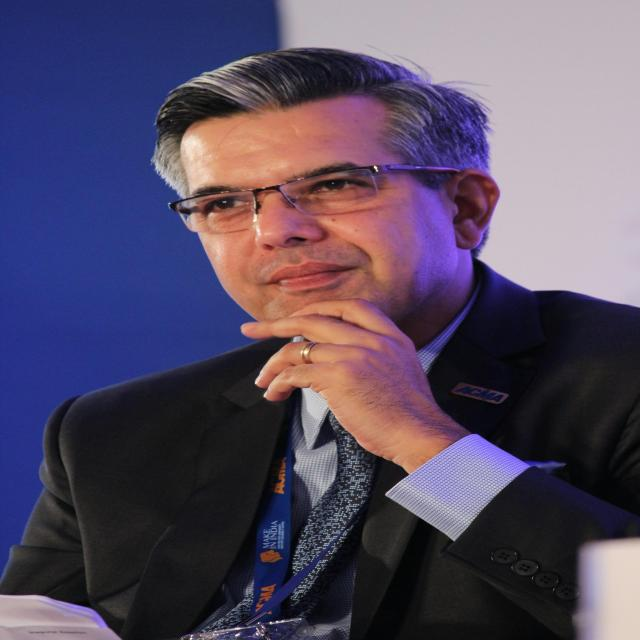human: (2, 48, 640, 640)
